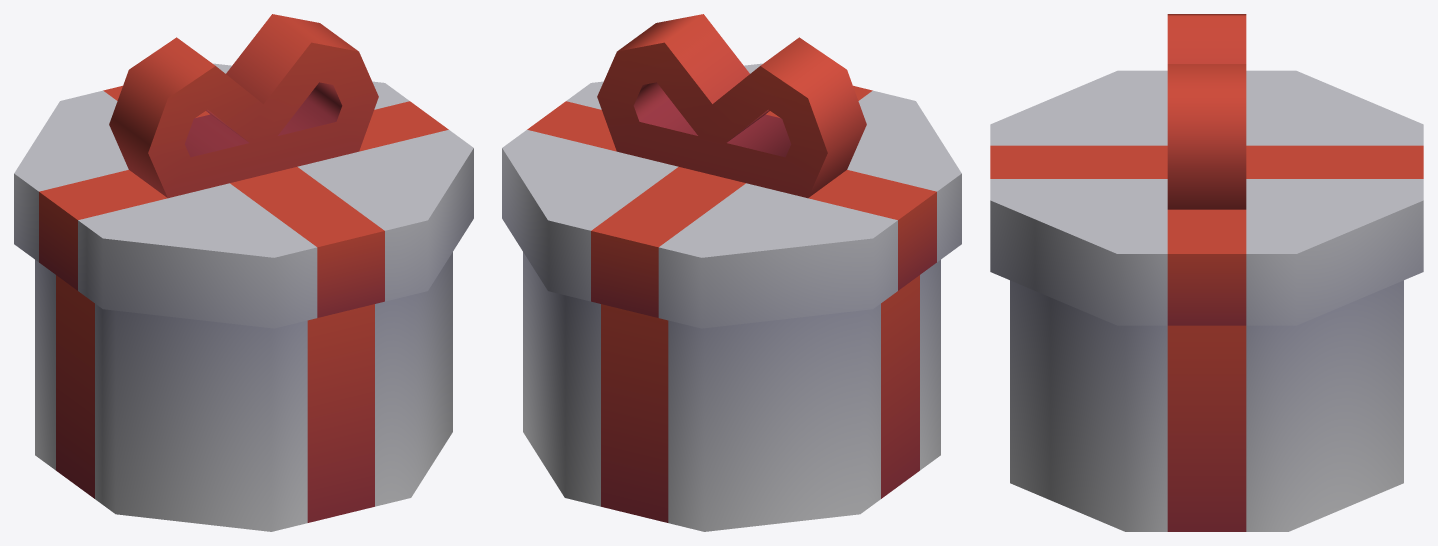
The model's file is present-a-round.glb.
The picture shows the model from 3 angles, left to right: view 1: azimuth 30°, elevation 25°; view 2: azimuth 150°, elevation 25°; view 3: azimuth 270°, elevation 25°; orthographic projection.
Visible parts, largest first — view 1: lid, present-a-round; view 2: lid, present-a-round; view 3: lid, present-a-round.
Part boxes in pixels (x1,y1,x2,y2): lid: (14,14,473,328); present-a-round: (35,252,452,531); lid: (502,14,961,328); present-a-round: (523,252,940,531); lid: (990,14,1423,325); present-a-round: (1010,280,1403,531).
Size of the model in its own units: 0.5489 by 0.5707 by 0.5489.
